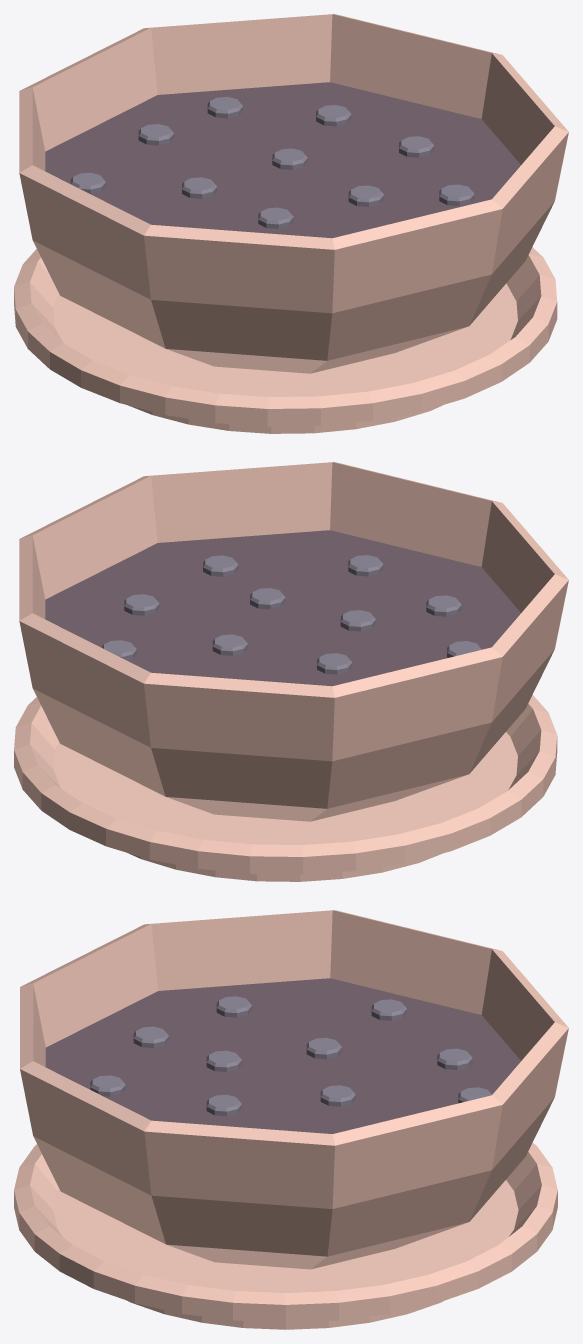
The model's file is soup_02.fbx.
3 renders of one model, top to bottom at view 1: azimuth 30°, elevation 25°; view 2: azimuth 150°, elevation 25°; view 3: azimuth 270°, elevation 25°, orthographic.
Visible parts, largest first — view 1: BezierCurve.003; view 2: BezierCurve.003; view 3: BezierCurve.003.
Part boxes in pixels (x1,y1,x2,y2): BezierCurve.003: (14,14,568,433); BezierCurve.003: (14,462,568,881); BezierCurve.003: (14,910,568,1329).
Bounding box in the file's own units: 205 × 87.28 × 204.
